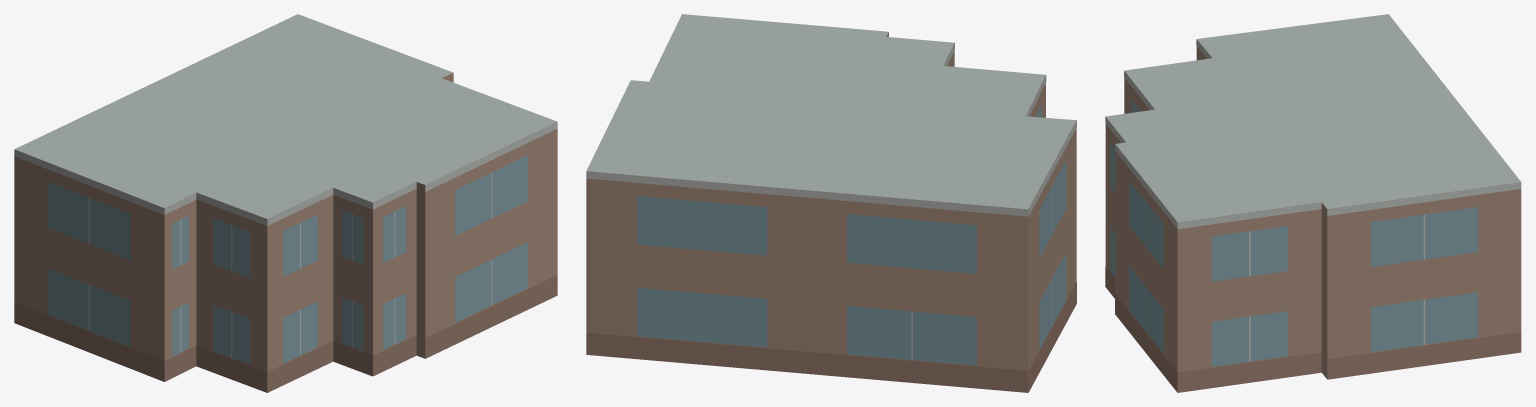
The model's file is survey-upis-32699255.glb.
3 renders of one model, left to right at view 1: azimuth 30°, elevation 25°; view 2: azimuth 150°, elevation 25°; view 3: azimuth 270°, elevation 25°, orthographic. The views are drawn at different scales.
Parts seen in each view (by area): view 1: survey-upis-32699255.tmp; view 2: survey-upis-32699255.tmp; view 3: survey-upis-32699255.tmp.
Part boxes in pixels (bbox=[...]): survey-upis-32699255.tmp: bbox=[14, 14, 557, 392]; survey-upis-32699255.tmp: bbox=[586, 14, 1076, 392]; survey-upis-32699255.tmp: bbox=[1105, 14, 1521, 392].
Size of the model in its own units: 16.01 by 6.1 by 13.5.
